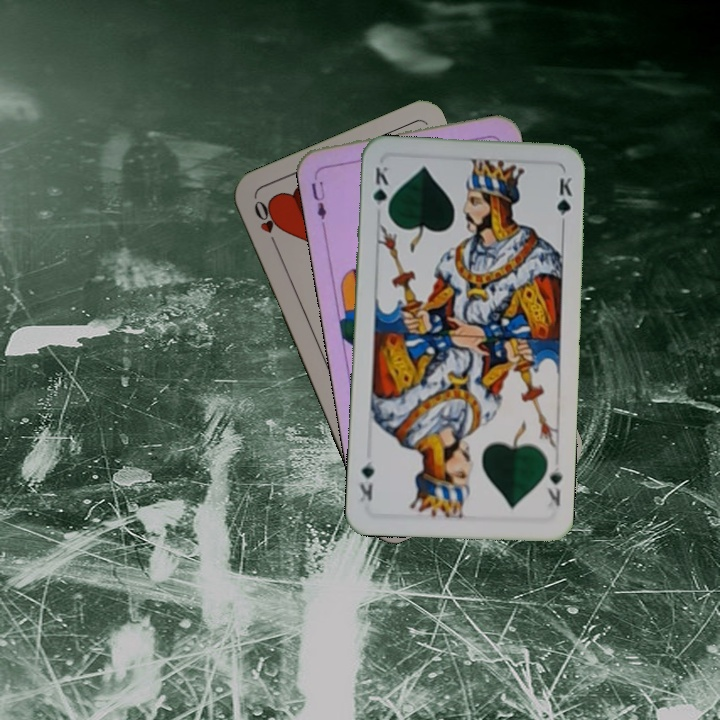EU: (307, 177, 329, 229)
GK: (368, 162, 391, 219), (543, 463, 565, 508)
HO: (250, 196, 281, 251)
